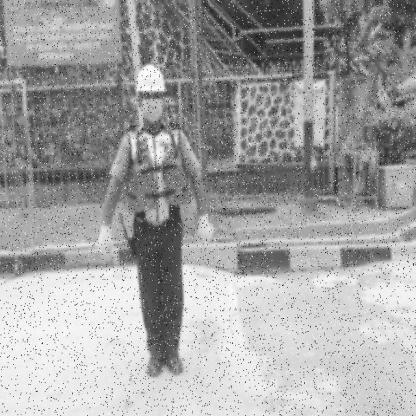boots: (146, 347, 164, 378), (165, 351, 184, 376)
gloves: (97, 223, 115, 258), (196, 215, 214, 247)
helmet: (136, 63, 166, 92)
mask: (142, 100, 164, 122)
vest: (125, 146, 191, 214)
